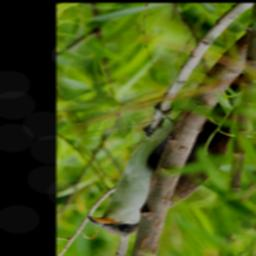Cuckoo: (82, 55, 256, 238)
